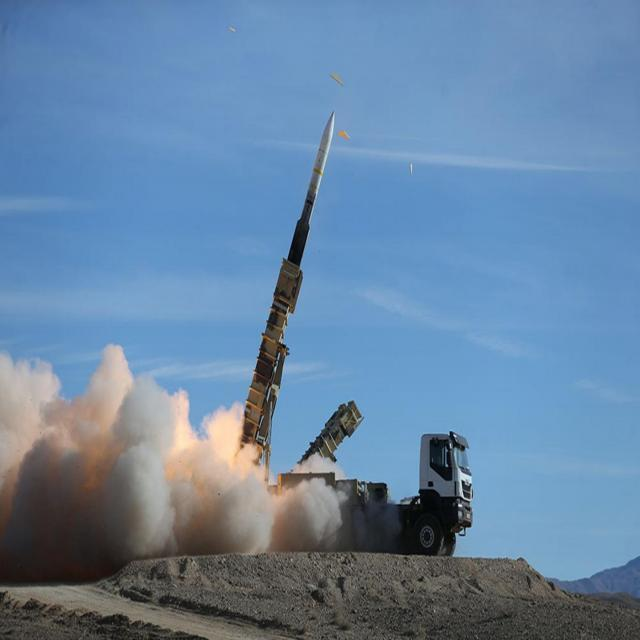missile: (238, 119, 348, 459)
